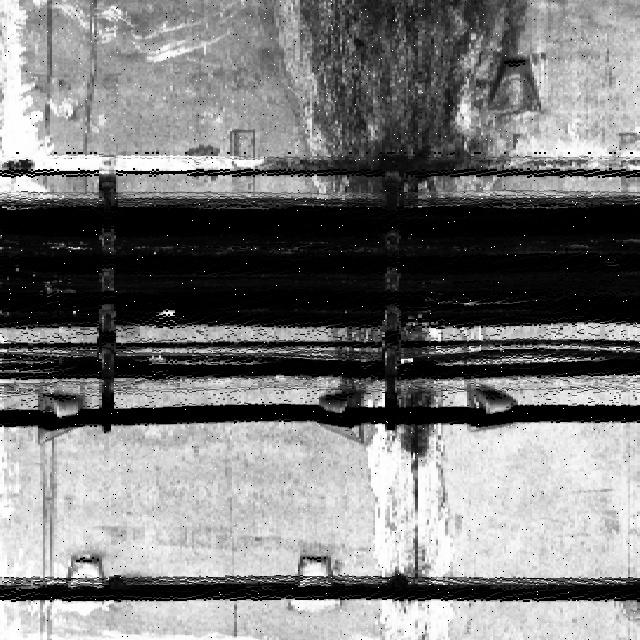leakage: (278, 0, 531, 202), (340, 320, 461, 639)
